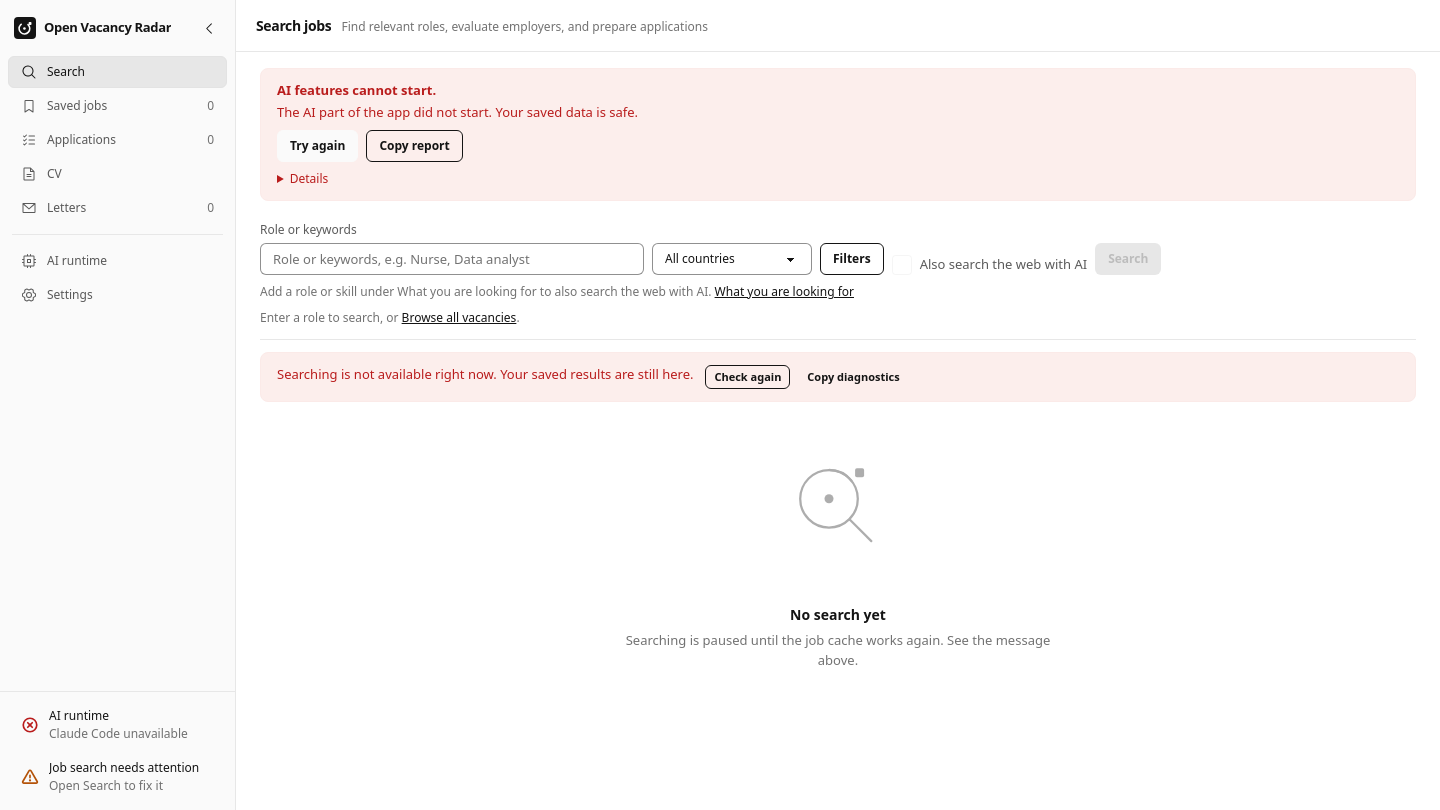
it: App › AI helper unavailable (issue #478) › does not show the red notice on Applications or CV, and the sidebar still reports the problem
Expected: the text "AI features cannot start." is shown, left=277, top=81, right=436, bottom=99
Click the button "Applications 0" at (118, 140), box left=8, top=124, right=227, bottom=156
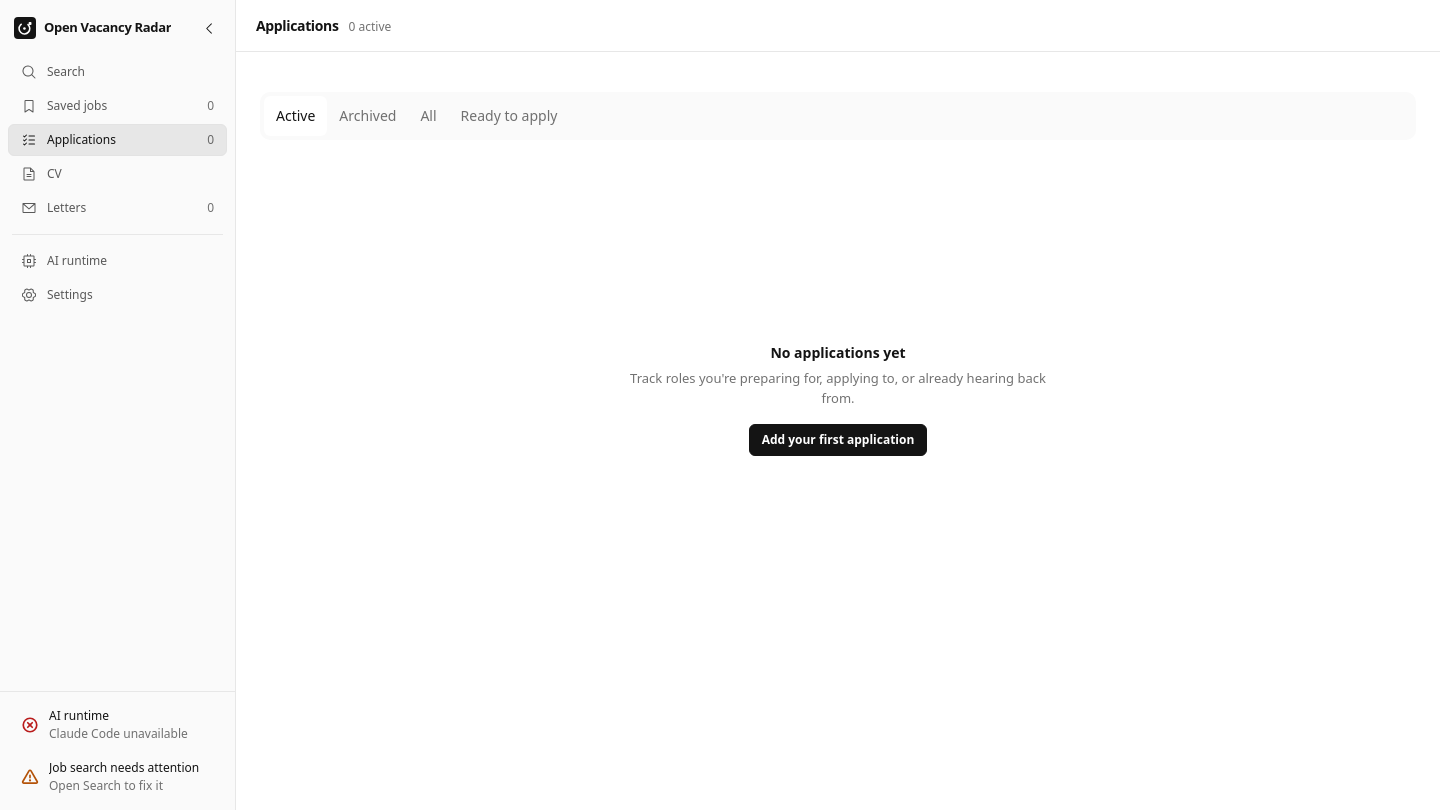
Expected: the text "Claude Code unavailable" is shown, left=49, top=725, right=188, bottom=743
Now the heading "Applications" is shown, box left=256, top=15, right=338, bottom=36
Now the text "AI features cannot start." is gone
Click the button "CV" at (118, 174), box left=8, top=158, right=227, bottom=190
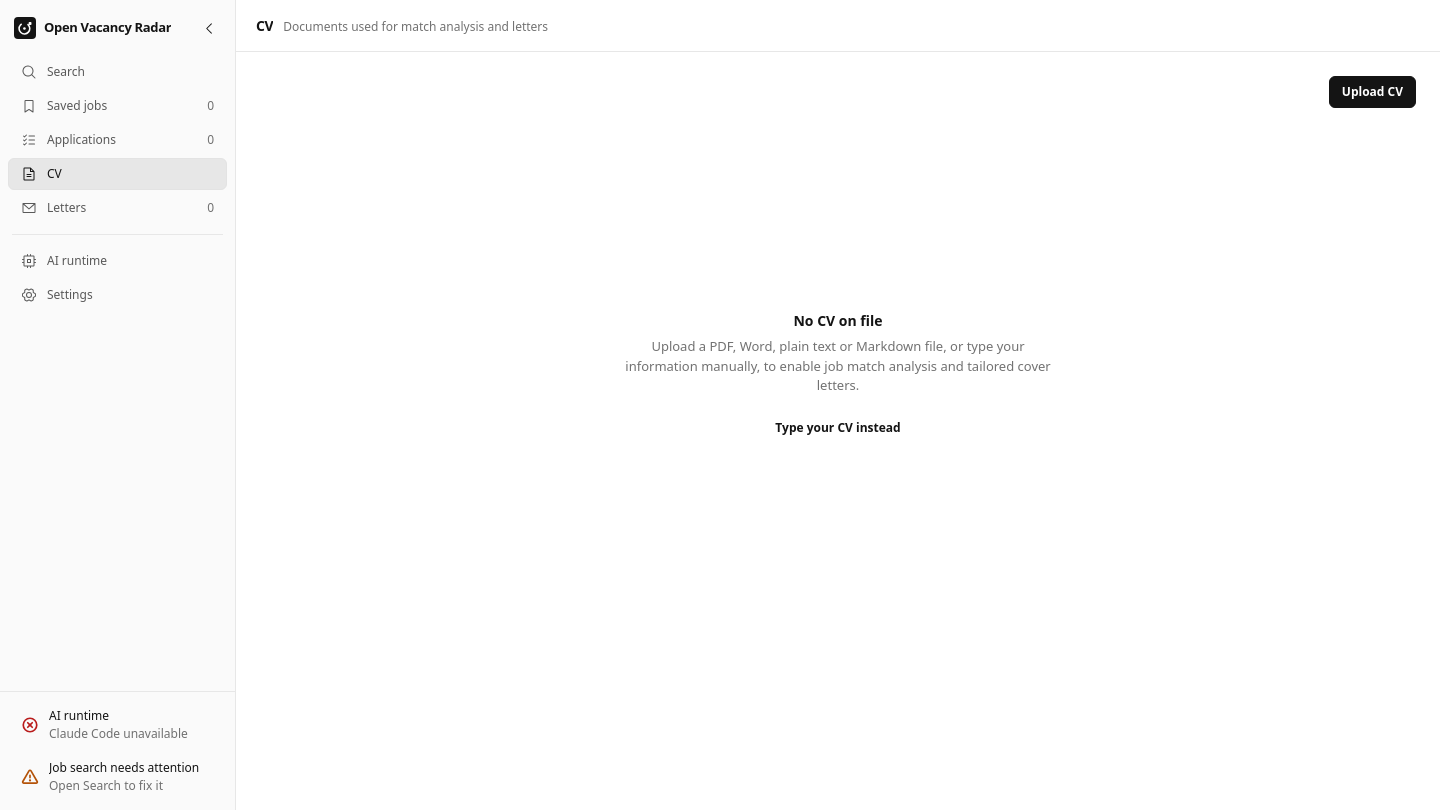
Expected: the text "AI features cannot start." is not shown
Now the heading "CV" is shown, box left=256, top=15, right=273, bottom=36
Click the button "Letters 0" at (118, 208), box left=8, top=192, right=227, bottom=224
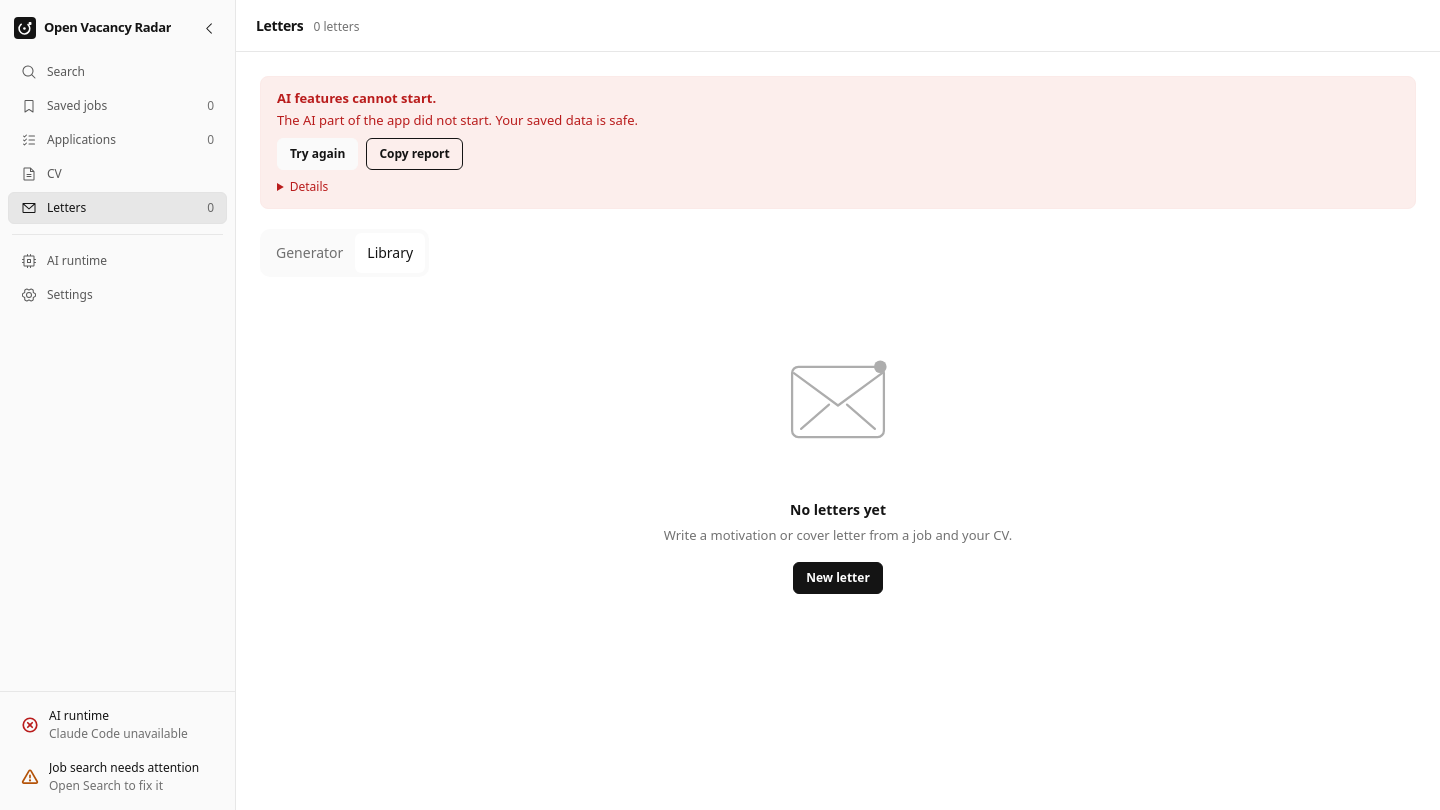
Now the text "AI features cannot start." is shown, box left=277, top=89, right=436, bottom=107
